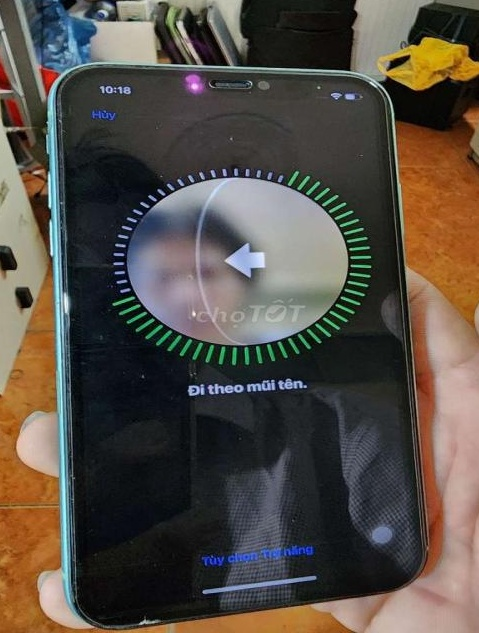scratch: (56, 447, 82, 606), (52, 285, 77, 399), (60, 58, 186, 71), (48, 170, 66, 249), (129, 607, 163, 631)
